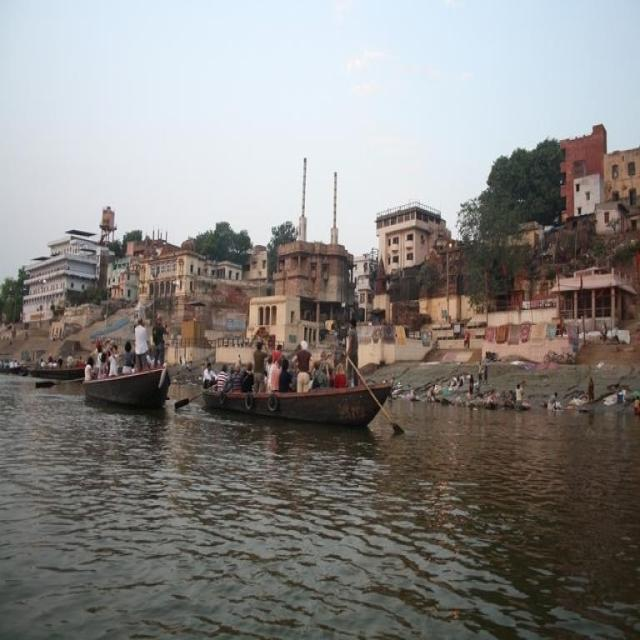boat: (205, 376, 393, 433), (82, 358, 174, 411), (35, 356, 91, 385)
